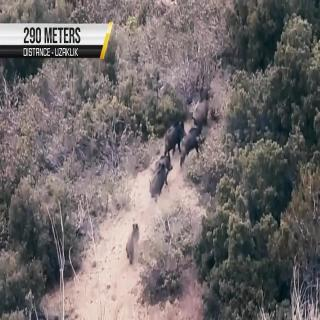Pig: (146, 148, 170, 214), (182, 114, 212, 164), (157, 115, 187, 151)
